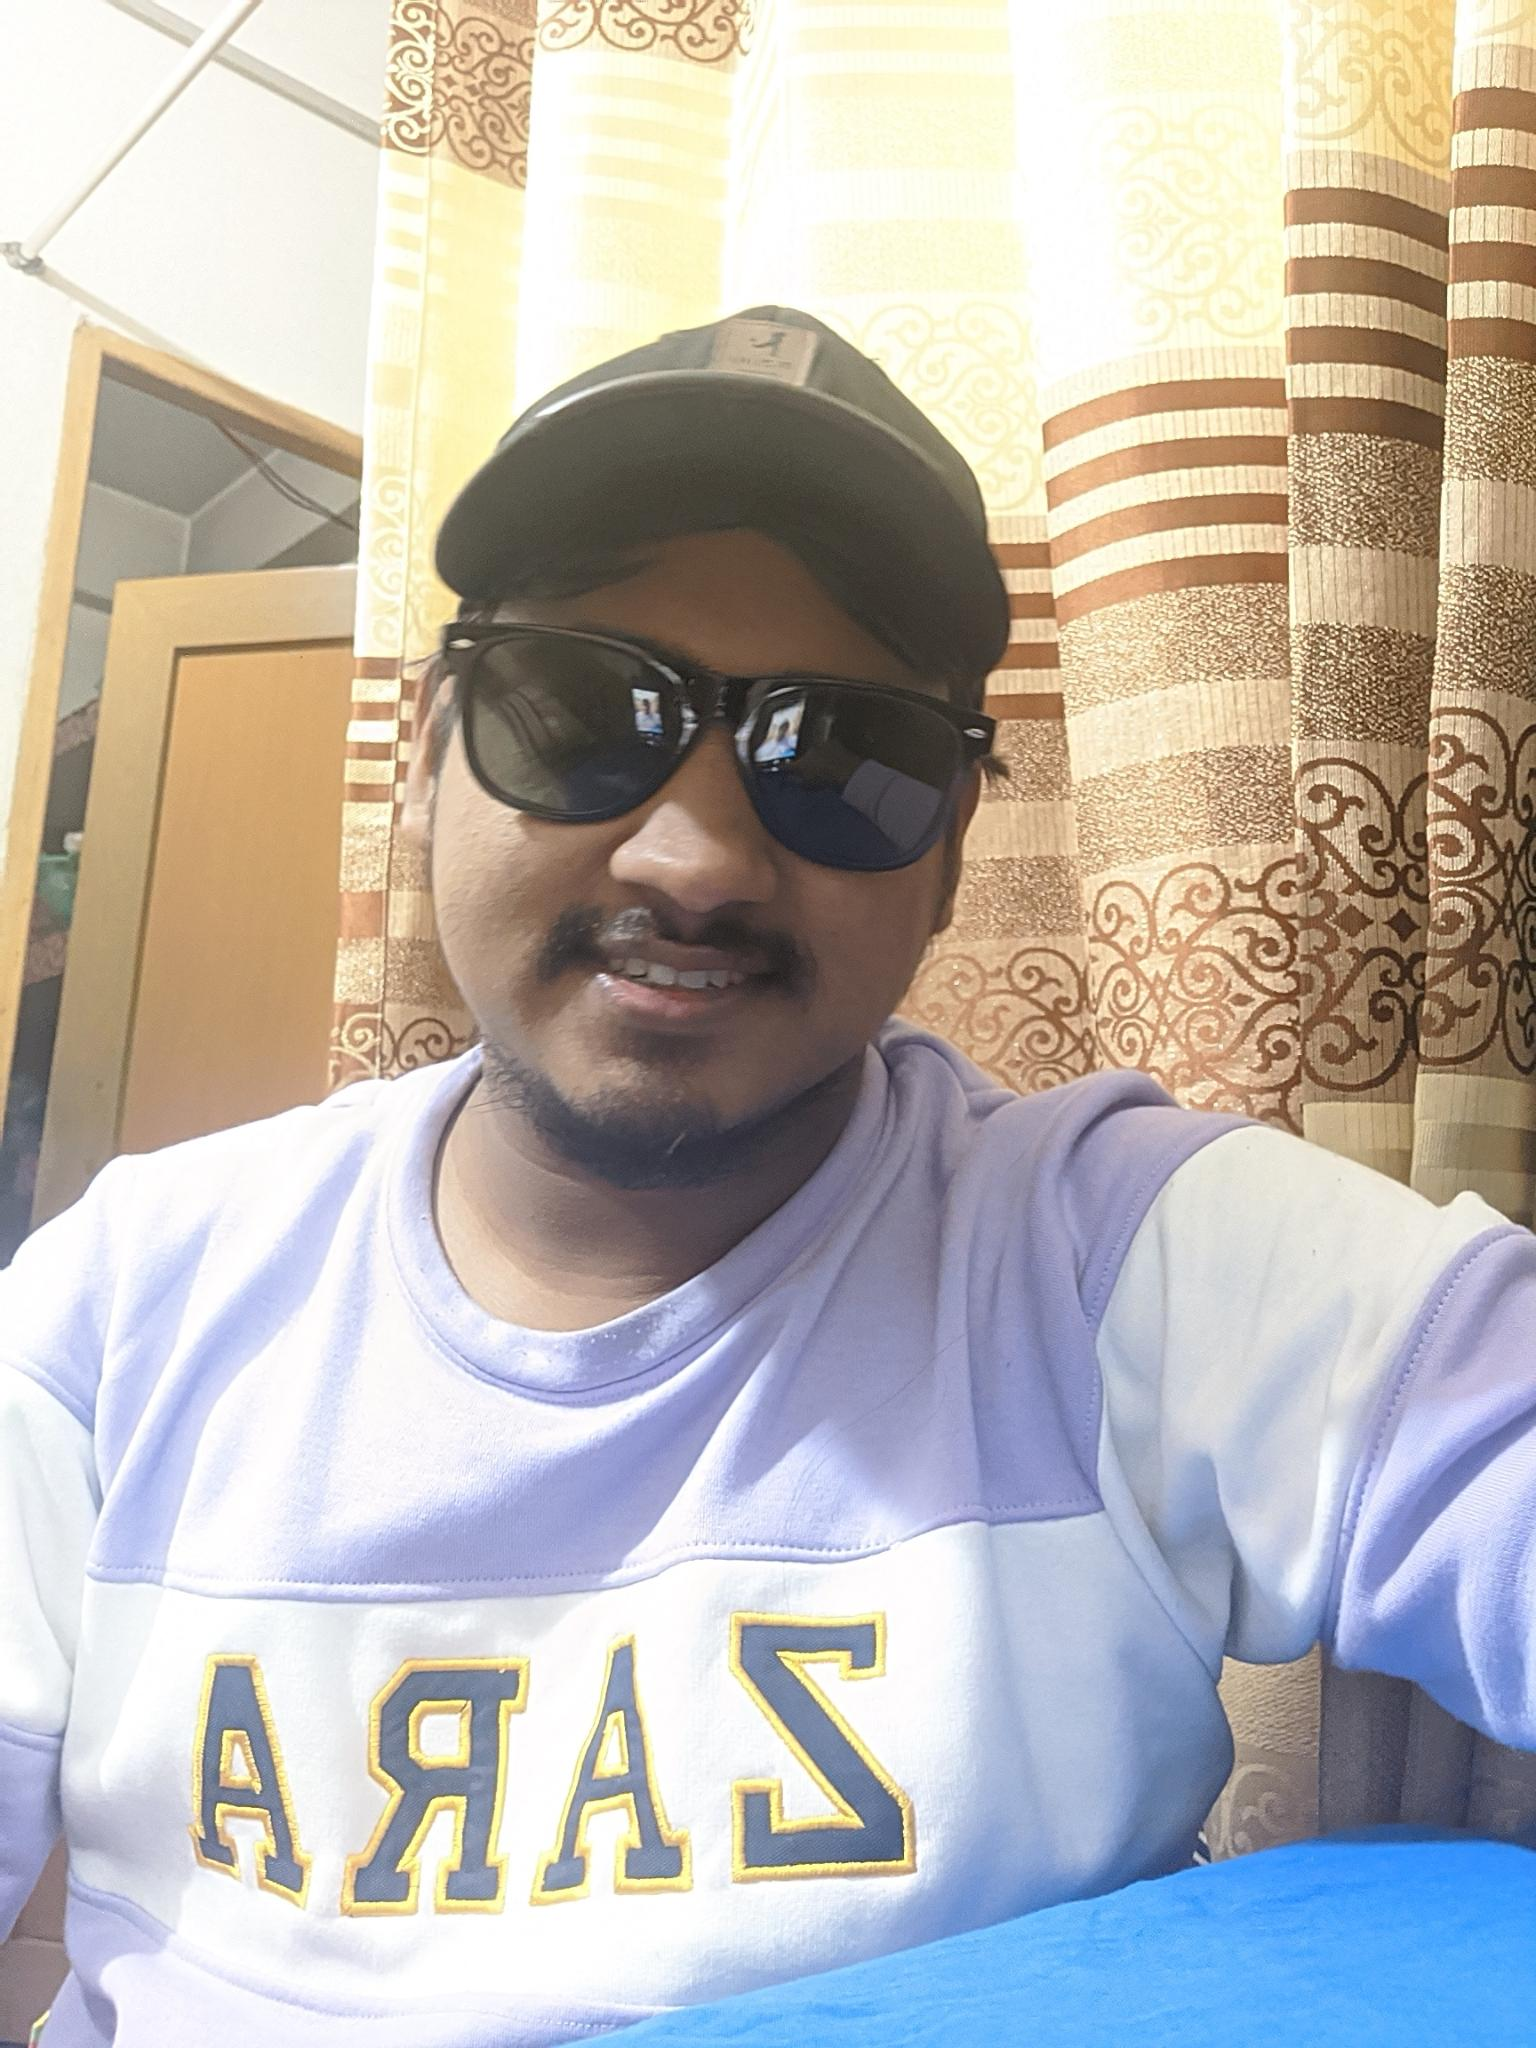Happy: (434, 556, 966, 1159)
